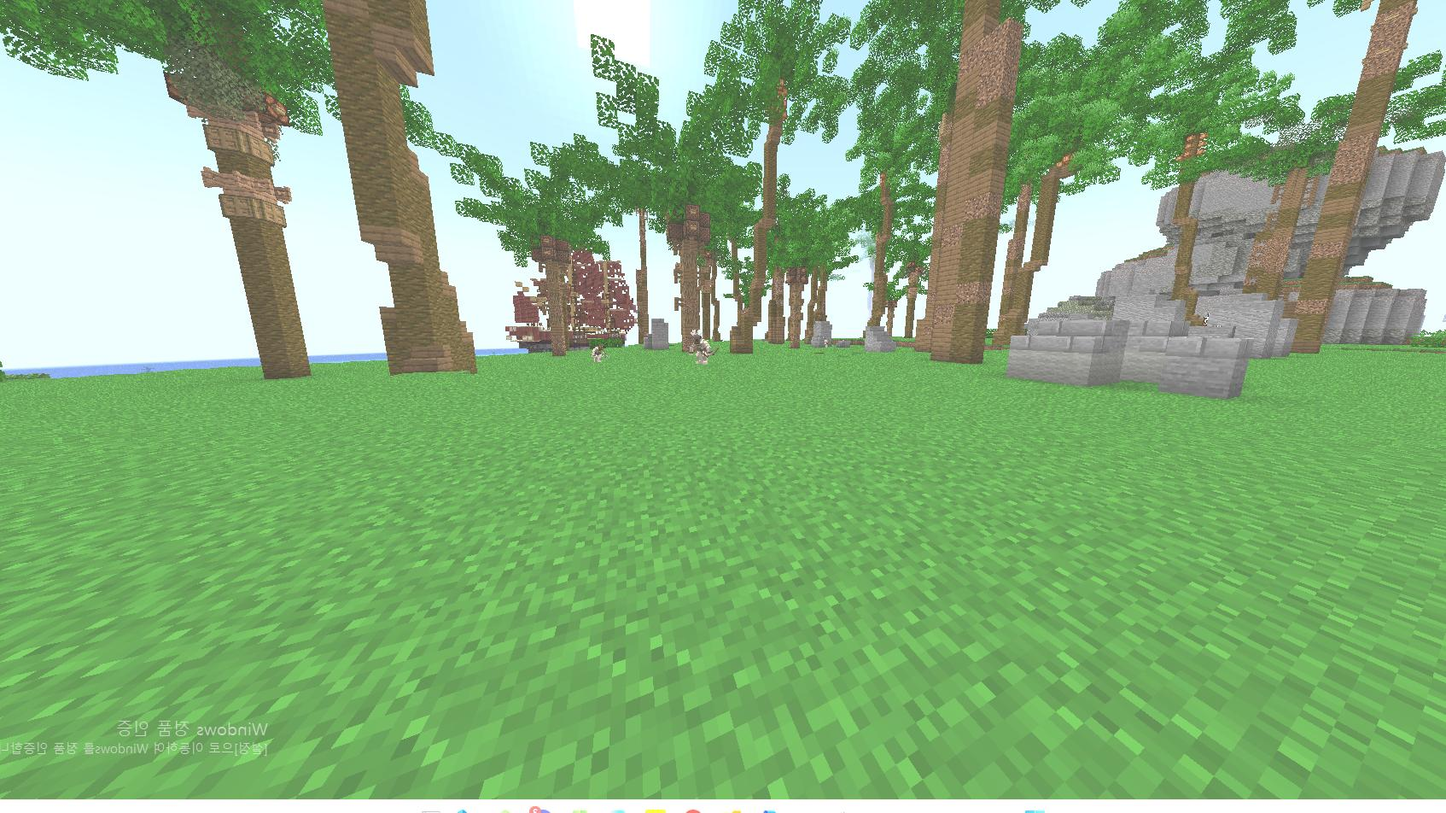bow_indian: (682, 321, 721, 374)
